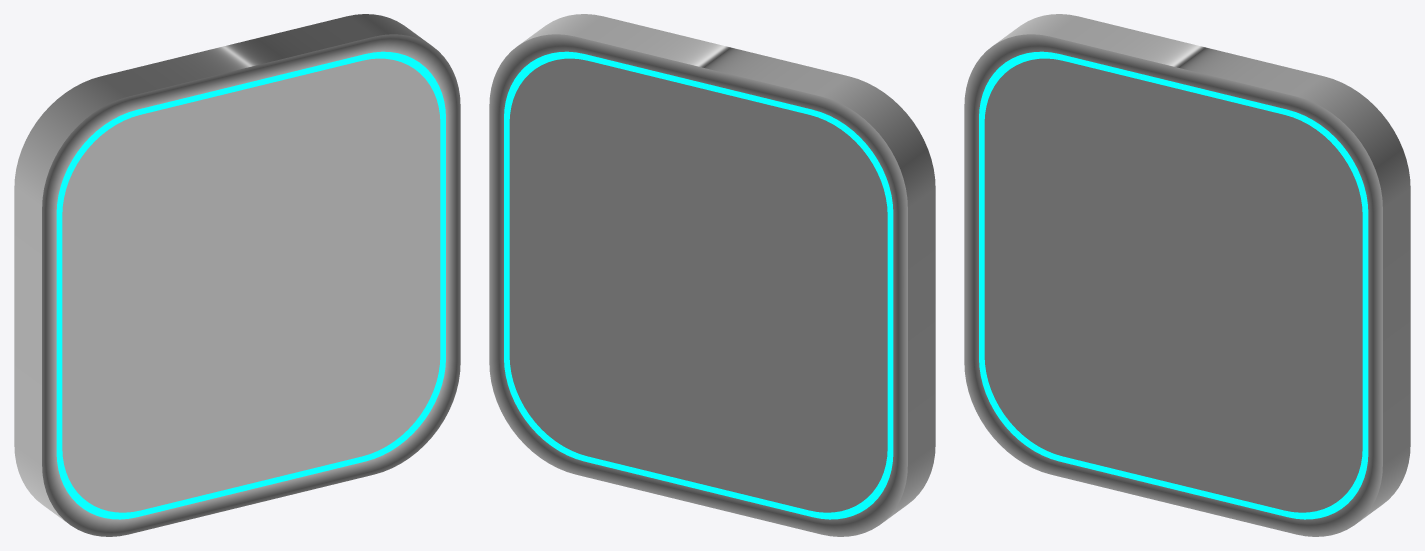
Rendered from reactjs.glb.
The picture shows the model from 3 angles, left to right: view 1: azimuth 30°, elevation 25°; view 2: azimuth 150°, elevation 25°; view 3: azimuth 330°, elevation 25°; orthographic projection.
Parts seen in each view (by area): view 1: Cube; view 2: Cube; view 3: Cube.
Part boxes in pixels (bbox=[...]): Cube: bbox=[14, 14, 460, 536]; Cube: bbox=[489, 14, 935, 536]; Cube: bbox=[964, 14, 1410, 536].
Bounding box in the file's own units: 2.03 × 2.03 × 0.2327.
